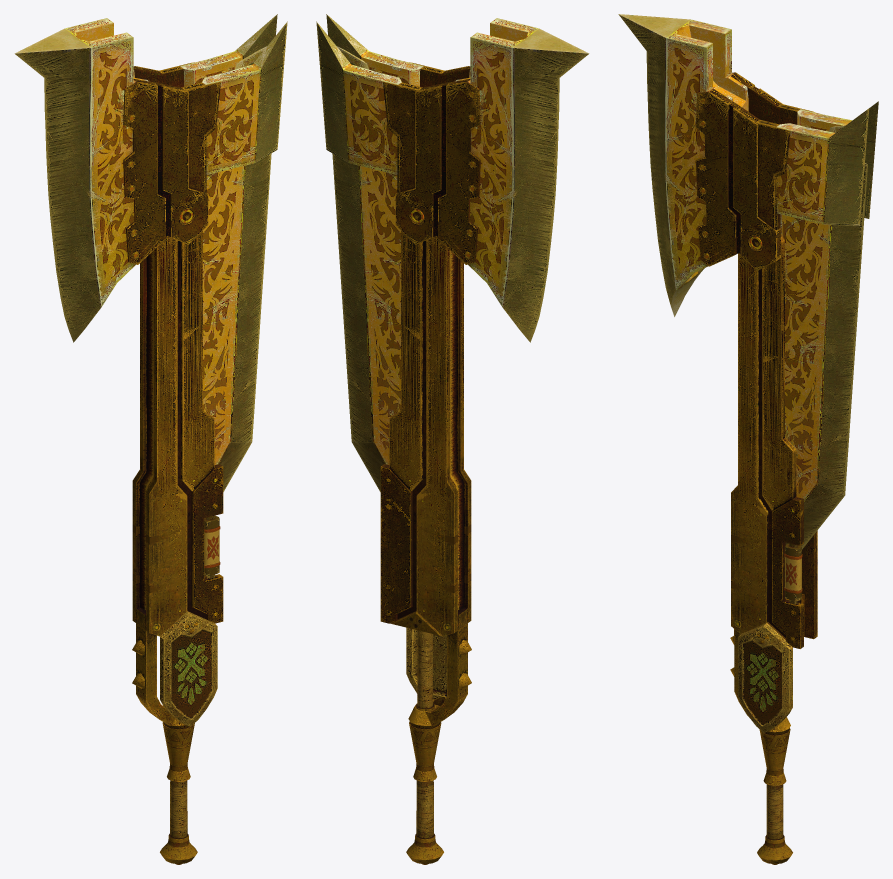
File: bs_saxe006.obj
3 renders of one model, left to right at view 1: azimuth 30°, elevation 25°; view 2: azimuth 150°, elevation 25°; view 3: azimuth 330°, elevation 25°, orthographic. The views are drawn at different scales.
Parts seen in each view (by area): view 1: bs_saxe006_000_LOD_1, bs_saxe006_004_LOD_1, bs_saxe006_003_LOD_1, bs_saxe006_002_LOD_1, bs_saxe006_001_LOD_1; view 2: bs_saxe006_004_LOD_1, bs_saxe006_000_LOD_1, bs_saxe006_003_LOD_1, bs_saxe006_002_LOD_1, bs_saxe006_001_LOD_1; view 3: bs_saxe006_004_LOD_1, bs_saxe006_000_LOD_1, bs_saxe006_003_LOD_1, bs_saxe006_002_LOD_1, bs_saxe006_001_LOD_1.
Boxes of the visible parts, x1,y1,x2,y2 form: bs_saxe006_000_LOD_1: [132, 231, 223, 726]; bs_saxe006_004_LOD_1: [14, 14, 287, 342]; bs_saxe006_003_LOD_1: [203, 46, 271, 491]; bs_saxe006_002_LOD_1: [123, 66, 208, 264]; bs_saxe006_001_LOD_1: [160, 722, 197, 864]; bs_saxe006_004_LOD_1: [316, 14, 589, 342]; bs_saxe006_000_LOD_1: [380, 231, 471, 725]; bs_saxe006_003_LOD_1: [332, 46, 400, 491]; bs_saxe006_002_LOD_1: [395, 66, 480, 264]; bs_saxe006_001_LOD_1: [406, 630, 443, 864]; bs_saxe006_004_LOD_1: [618, 14, 878, 316]; bs_saxe006_000_LOD_1: [730, 233, 817, 732]; bs_saxe006_003_LOD_1: [780, 125, 867, 549]; bs_saxe006_002_LOD_1: [695, 72, 782, 270]; bs_saxe006_001_LOD_1: [757, 728, 792, 864].
Size of the model in its own units: 97.23 by 295 by 17.87.
